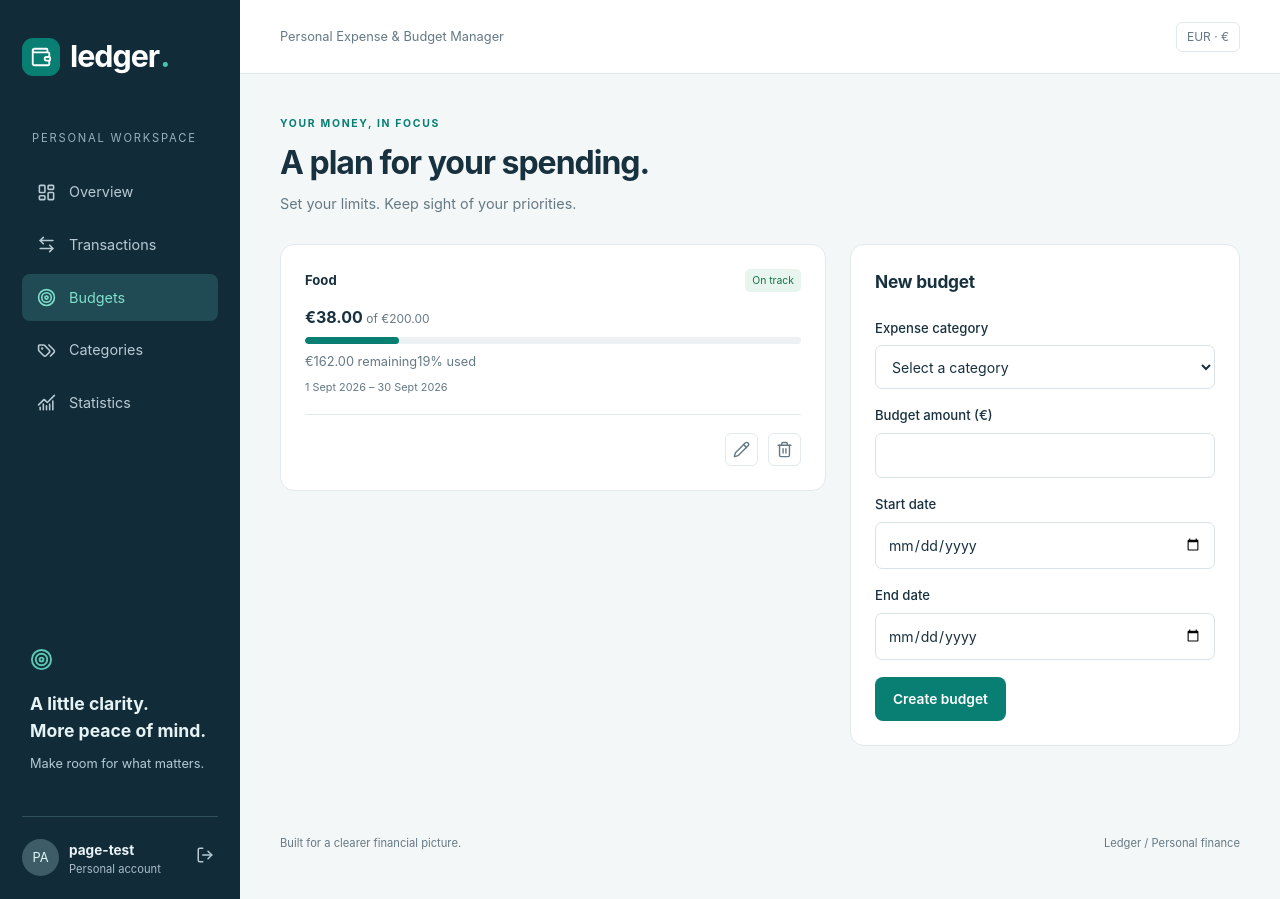
Test: transaction and budget pages with MSW › edits and deletes a budget through its confirmation dialog
Check: the text "Food" is shown, box x1=305 y1=271 x2=337 y2=290
Click the button named "Edit Food budget" at (742, 449), box x1=725 y1=433 x2=758 y2=466
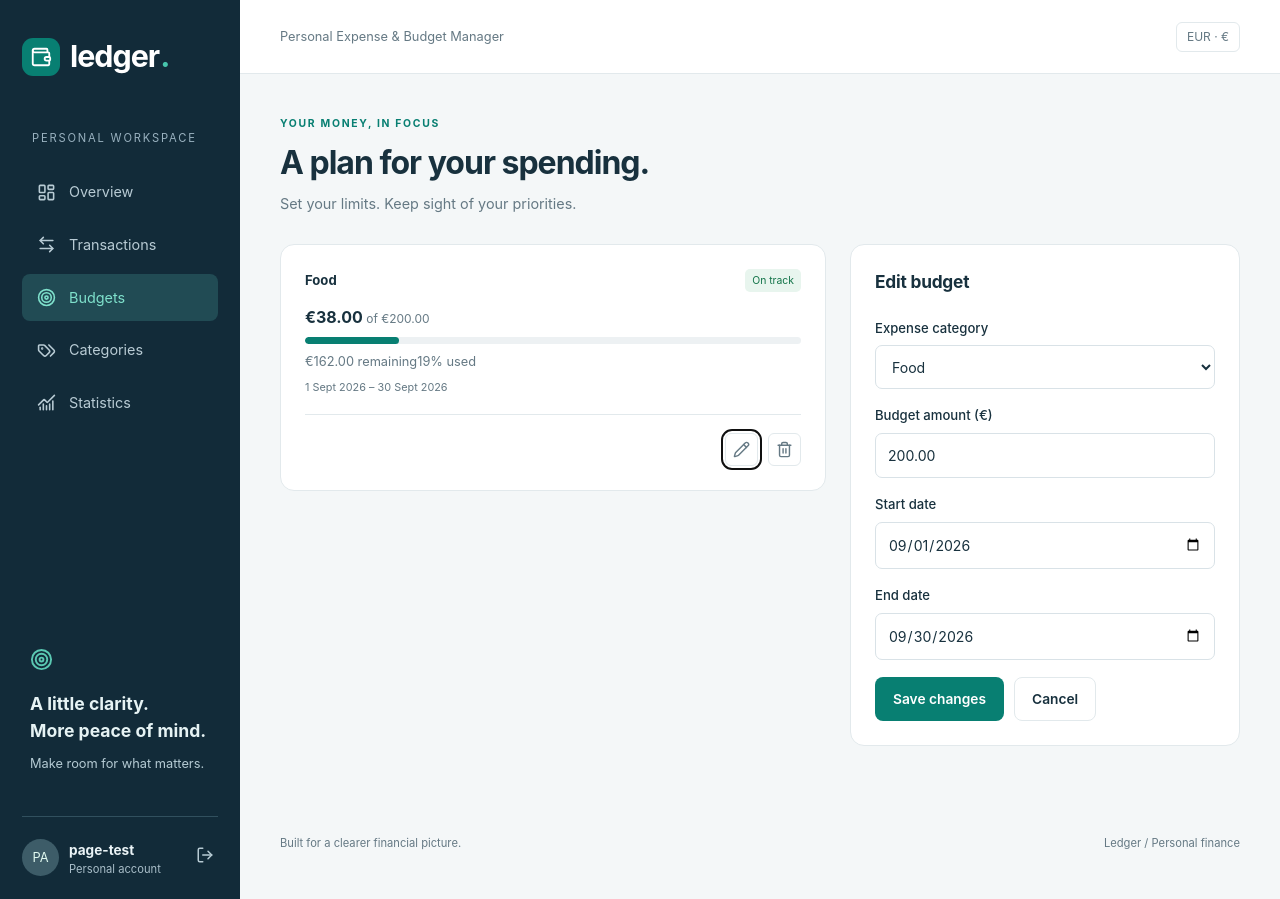
Check: the heading "Edit budget" is shown, box x1=875 y1=271 x2=969 y2=292
Replace the text in the number field labelled "Budget amount (€)" with "250" at (1045, 455), box x1=875 y1=433 x2=1215 y2=478
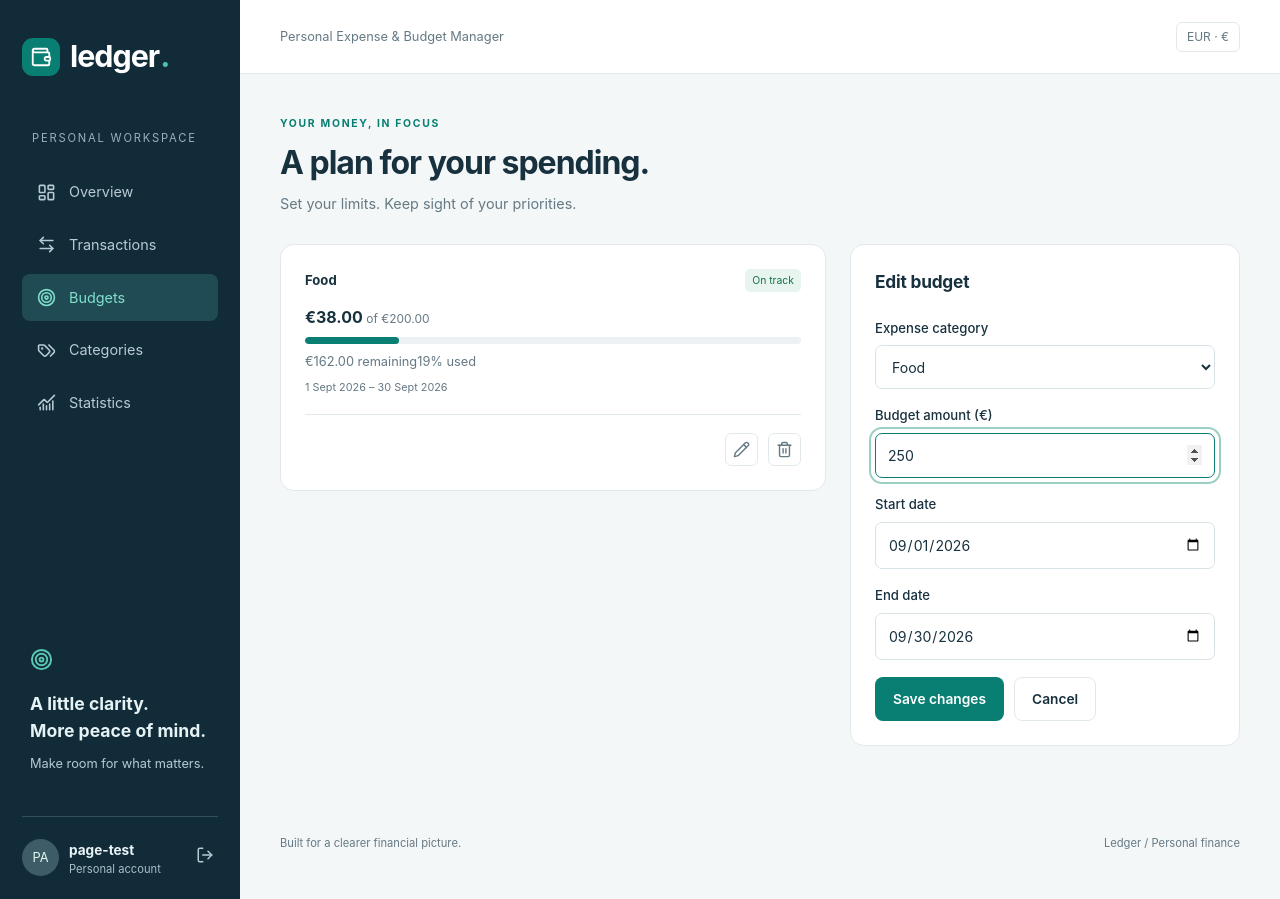
Click the button "Save changes" at (940, 699), box x1=875 y1=677 x2=1004 y2=721
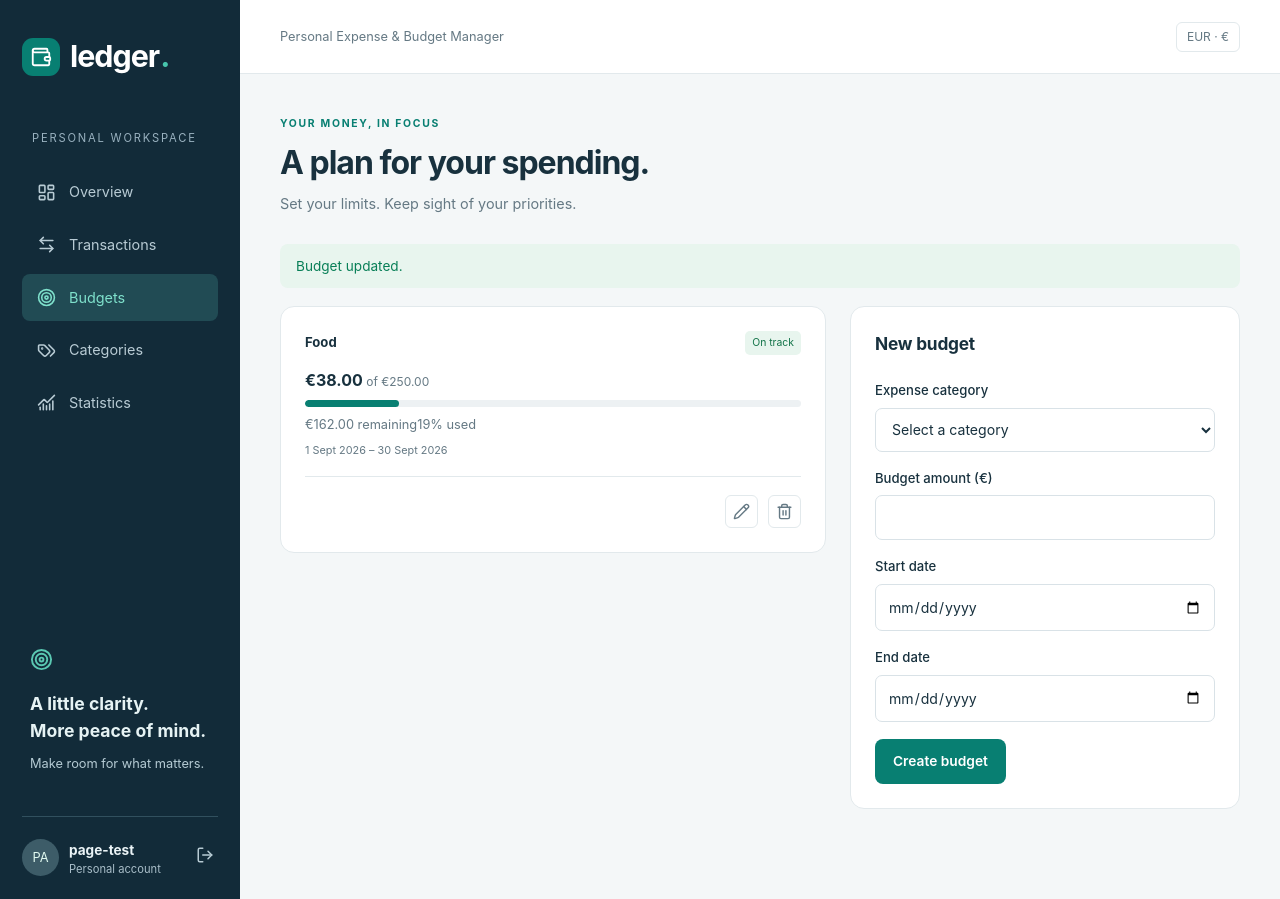
Check: the message reads "Budget updated.", box x1=296 y1=258 x2=403 y2=274
Click the button named "Delete Food budget" at (784, 512), box x1=768 y1=495 x2=801 y2=528
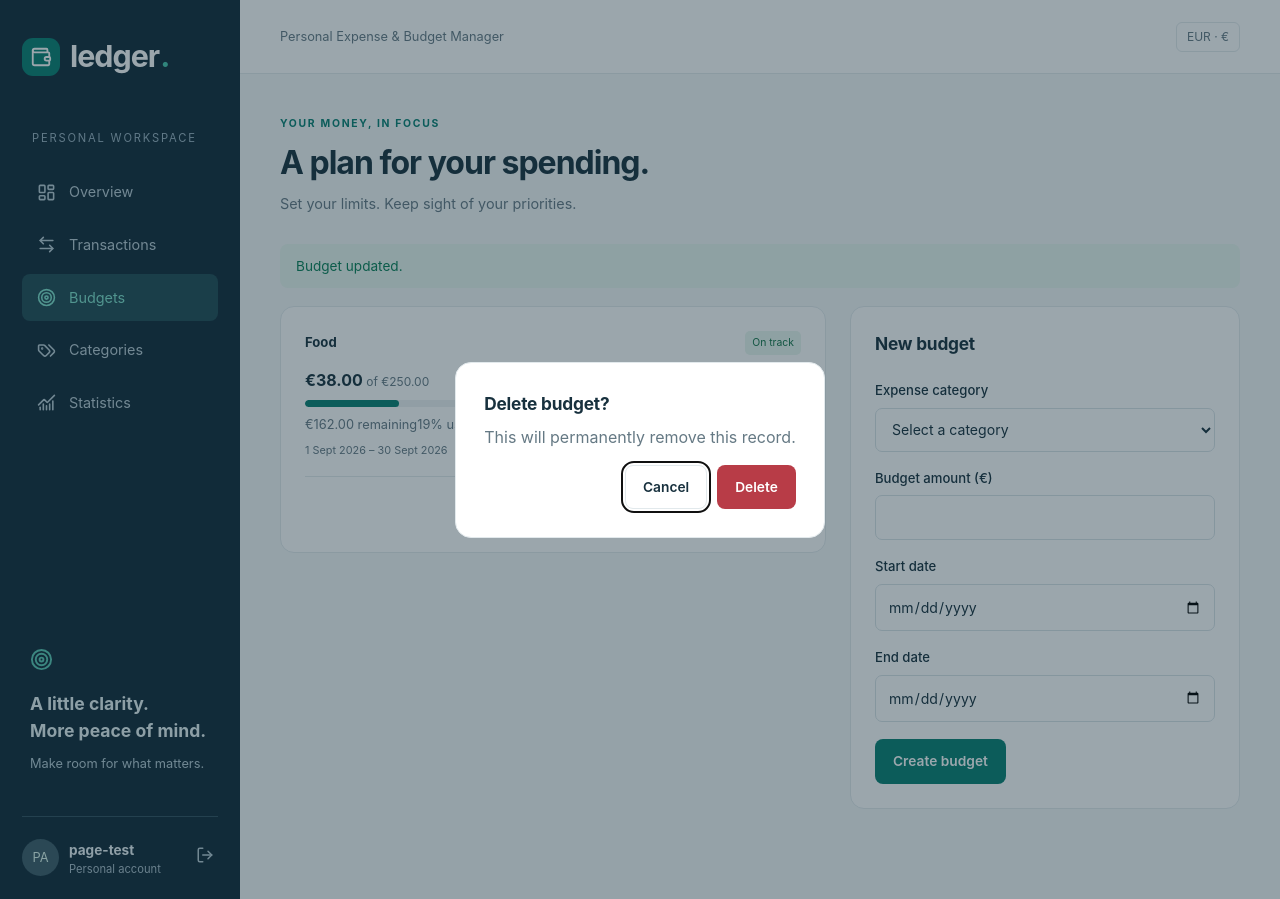
Click the button "Delete" at (756, 487), box x1=717 y1=465 x2=796 y2=509
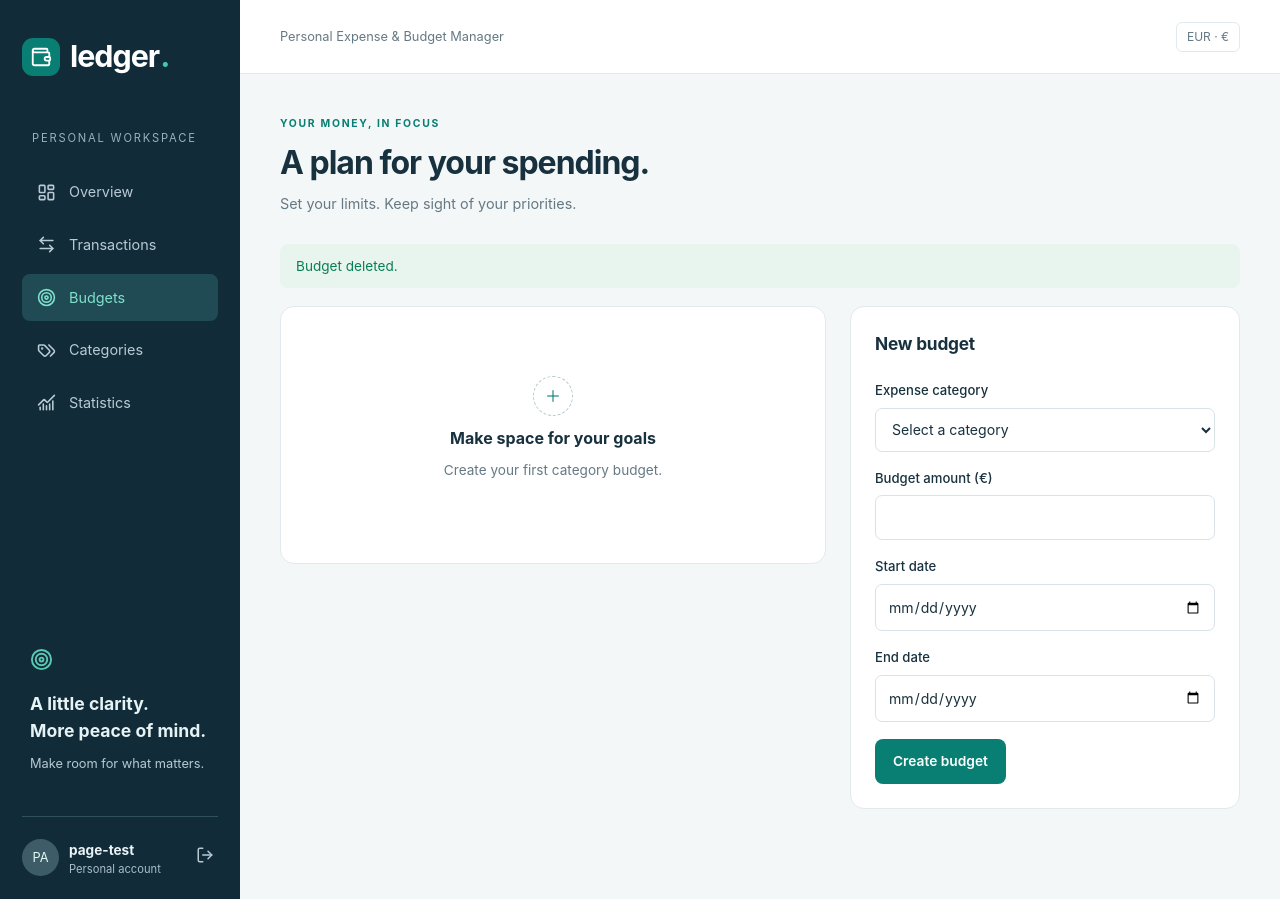
Check: the message reads "Budget deleted.", box x1=296 y1=258 x2=398 y2=274
Check: the heading "Make space for your goals" is shown, box x1=450 y1=428 x2=656 y2=448
